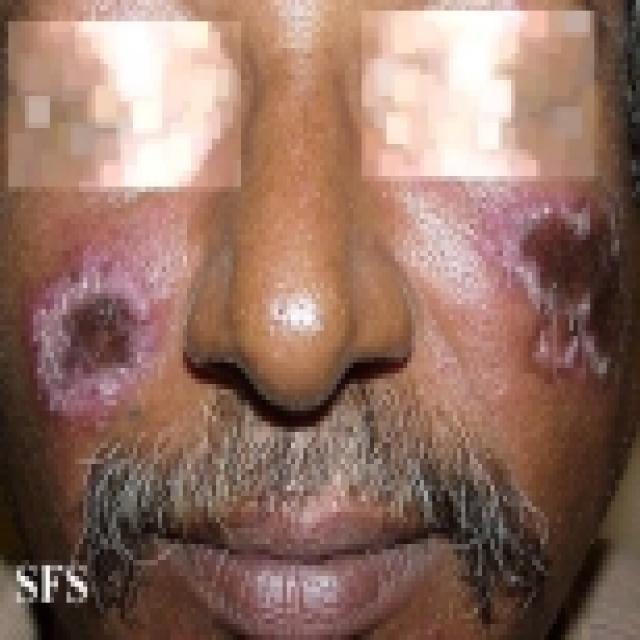lupus: (459, 180, 635, 407), (15, 208, 184, 438)
